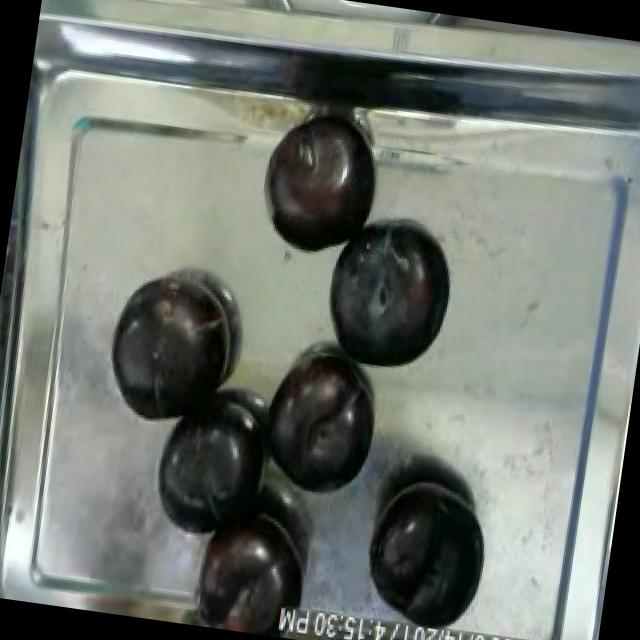Fruit: (350, 465, 501, 640), (316, 210, 462, 385), (100, 265, 242, 441), (251, 336, 390, 510), (255, 113, 383, 266), (144, 393, 266, 550)
